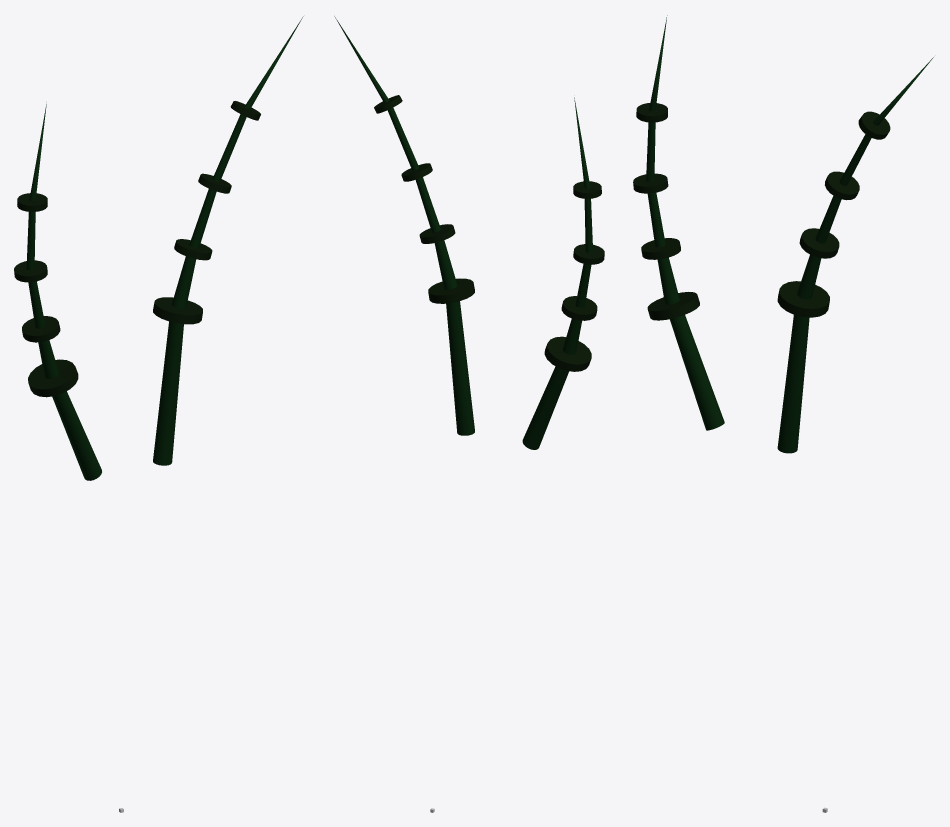
File: tandukplankton.obj
3 views of the same model, side by side, from view 1: azimuth 30°, elevation 25°; view 2: azimuth 150°, elevation 25°; view 3: azimuth 330°, elevation 25° (orthographic). The views are drawn at different scales.
Parts seen in each view (by area): view 1: Plankton_07_-_Default_0, Plankton_08_-_Default_0; view 2: Plankton_07_-_Default_0, Plankton_08_-_Default_0; view 3: Plankton_07_-_Default_0, Plankton_08_-_Default_0.
Boxes of the visible parts, left/top/right/bottom form: Plankton_07_-_Default_0: left=26, top=16, right=303, bottom=480; Plankton_08_-_Default_0: left=14, top=101, right=260, bottom=397; Plankton_07_-_Default_0: left=334, top=16, right=593, bottom=449; Plankton_08_-_Default_0: left=374, top=95, right=604, bottom=371; Plankton_07_-_Default_0: left=646, top=15, right=933, bottom=453; Plankton_08_-_Default_0: left=633, top=103, right=890, bottom=320.
Bounding box in the file's own units: 191 × 499 × 59.3.
